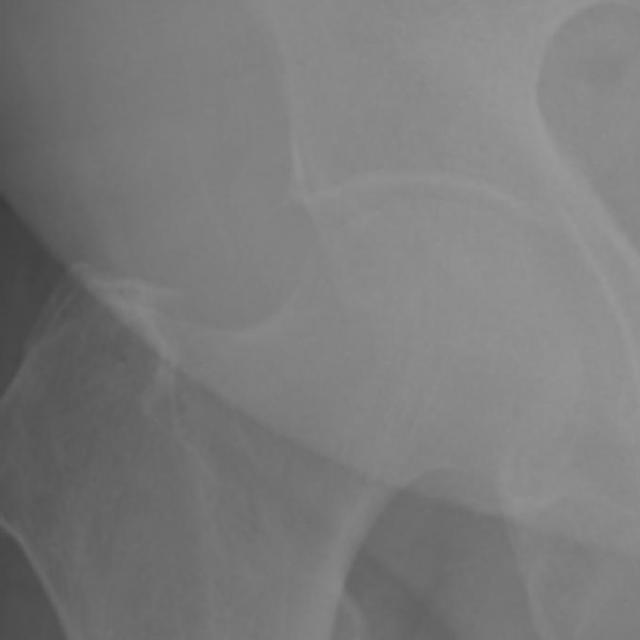Fitted_femural_head: (295, 198, 432, 295)
